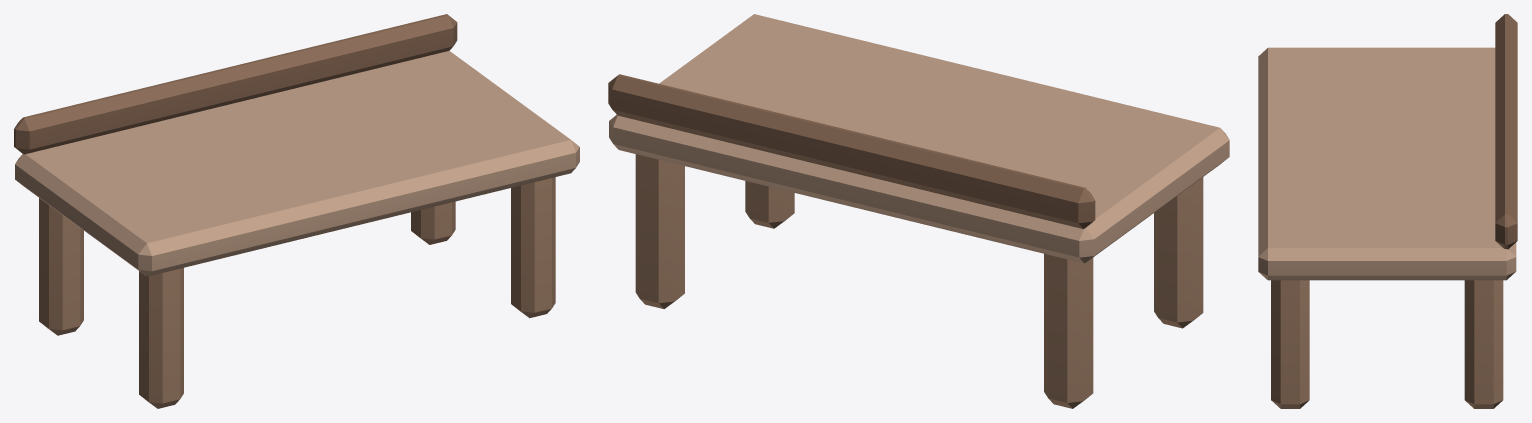
The model's file is prop-moka-display.glb.
The picture shows the model from 3 angles, left to right: view 1: azimuth 30°, elevation 25°; view 2: azimuth 150°, elevation 25°; view 3: azimuth 270°, elevation 25°; orthographic projection. The views are drawn at different scales.
Visible parts, largest first — view 1: prop-moka-display; view 2: prop-moka-display; view 3: prop-moka-display.
Part boxes in pixels (bbox=[...]): prop-moka-display: bbox=[14, 14, 579, 408]; prop-moka-display: bbox=[608, 14, 1229, 408]; prop-moka-display: bbox=[1258, 14, 1517, 408].
Bounding box in the file's own units: 0.76 × 0.345 × 0.4.
